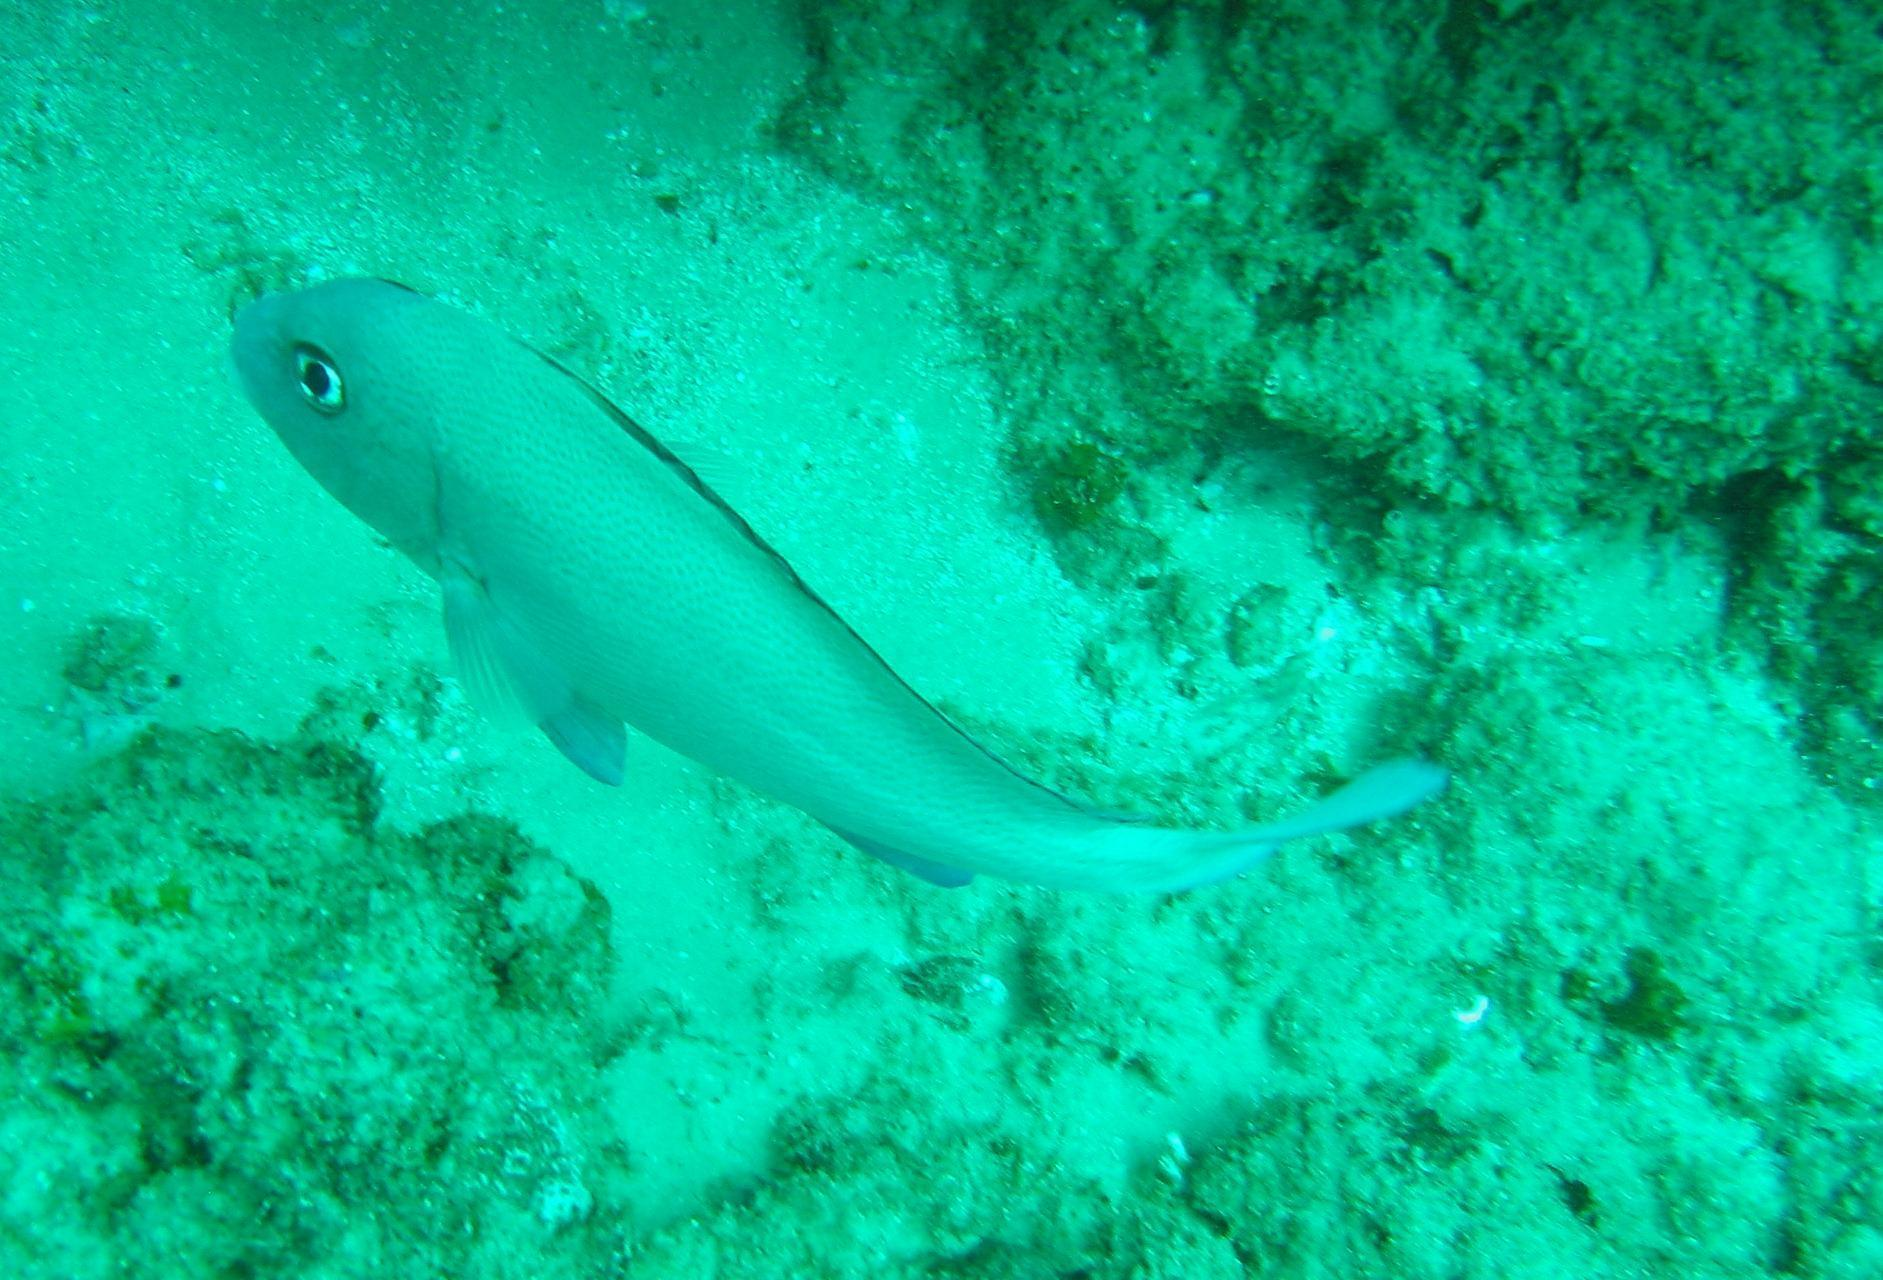Fish: (203, 260, 1480, 907)
